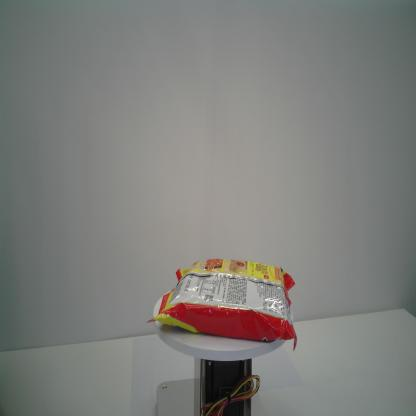Instant Noodles: (146, 256, 297, 352)
